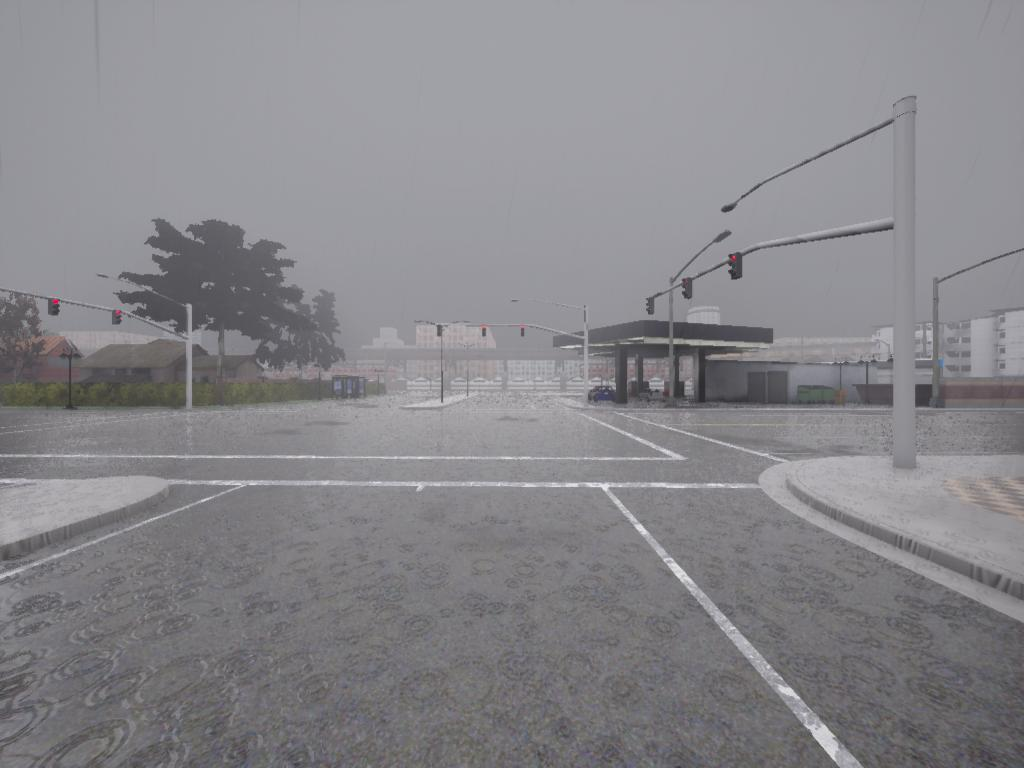traffic_light: (728, 254, 744, 282), (681, 280, 692, 301), (49, 300, 61, 318), (646, 299, 657, 317), (112, 311, 123, 325), (437, 327, 444, 338), (481, 327, 488, 337), (521, 327, 528, 336), (518, 328, 525, 337)
